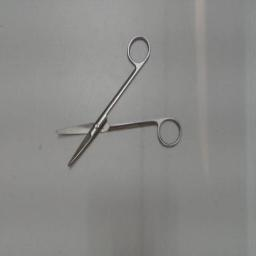Curved Mayo Scissors: (52, 31, 186, 173)
